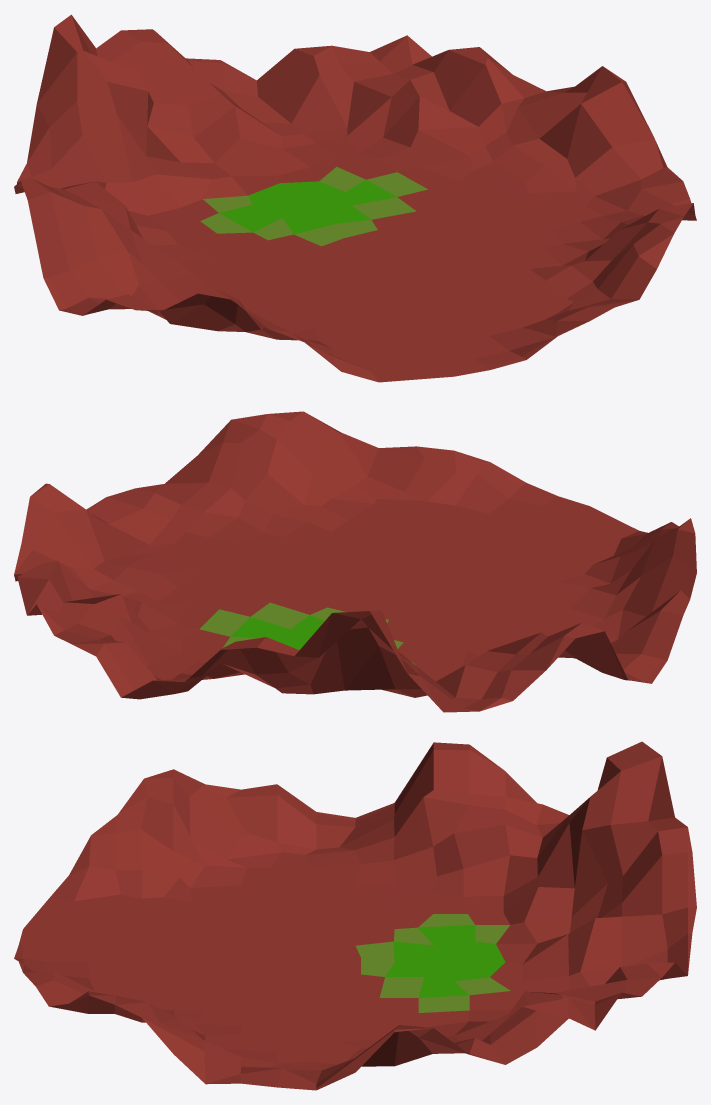
File: Mars-One_map_terraorming_01.FBX
The picture shows the model from 3 angles, top to bottom: view 1: azimuth 30°, elevation 25°; view 2: azimuth 150°, elevation 25°; view 3: azimuth 270°, elevation 25°; orthographic projection.
Visible parts, largest first — view 1: Circle001; view 2: Circle001; view 3: Circle001.
Part boxes in pixels (bbox=[...]): Circle001: bbox=[14, 14, 696, 382]; Circle001: bbox=[14, 411, 696, 712]; Circle001: bbox=[14, 741, 696, 1090].
Bounding box in the file's own units: 413 × 96.32 × 414.
Materials: 1 (1 with a texture image).
